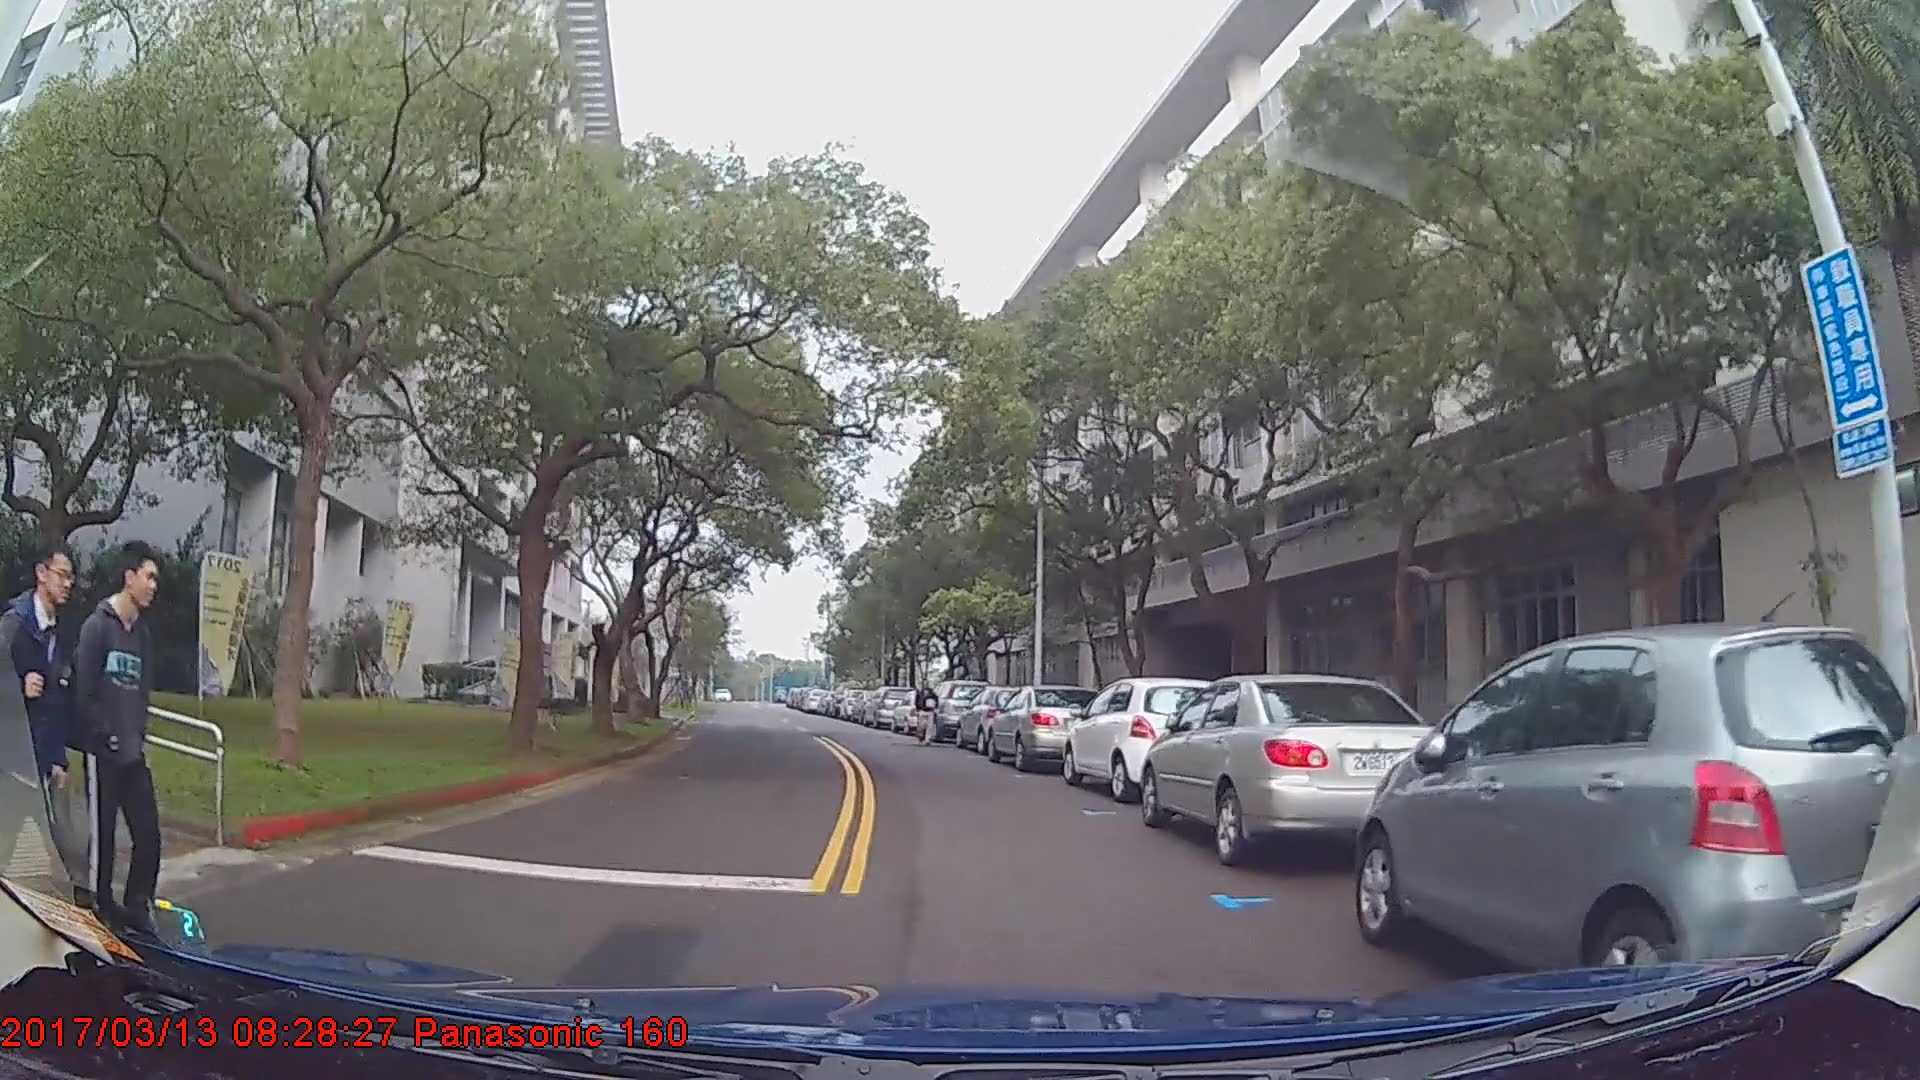pedestrian: (1, 540, 120, 955), (60, 536, 165, 976), (913, 675, 940, 746)
vehicle: (1355, 620, 1920, 1010), (1142, 671, 1459, 869), (1064, 674, 1229, 804), (987, 682, 1101, 771), (953, 684, 1051, 756), (923, 679, 989, 744), (862, 683, 912, 728)
